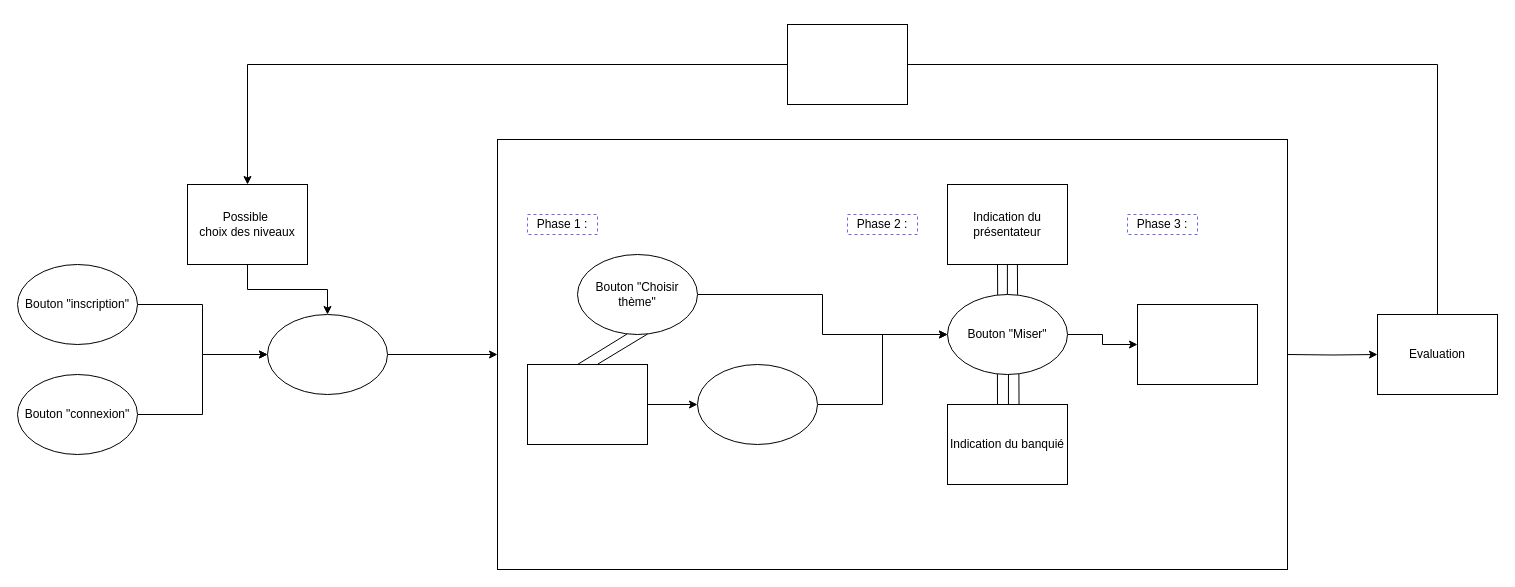
Image size: 1515x587. Some labels were removed from this diagram. Each missing label, with the box of its shape:
Bouton "Choix bonus": (696, 364, 818, 444)
Bouton "Jouer": (266, 314, 388, 394)
Détermination des niveaux de difficulté / mini-jeux: (786, 24, 908, 104)
Lancement de la roue: (526, 364, 648, 444)
Révélation des réponses: (1136, 304, 1258, 384)
